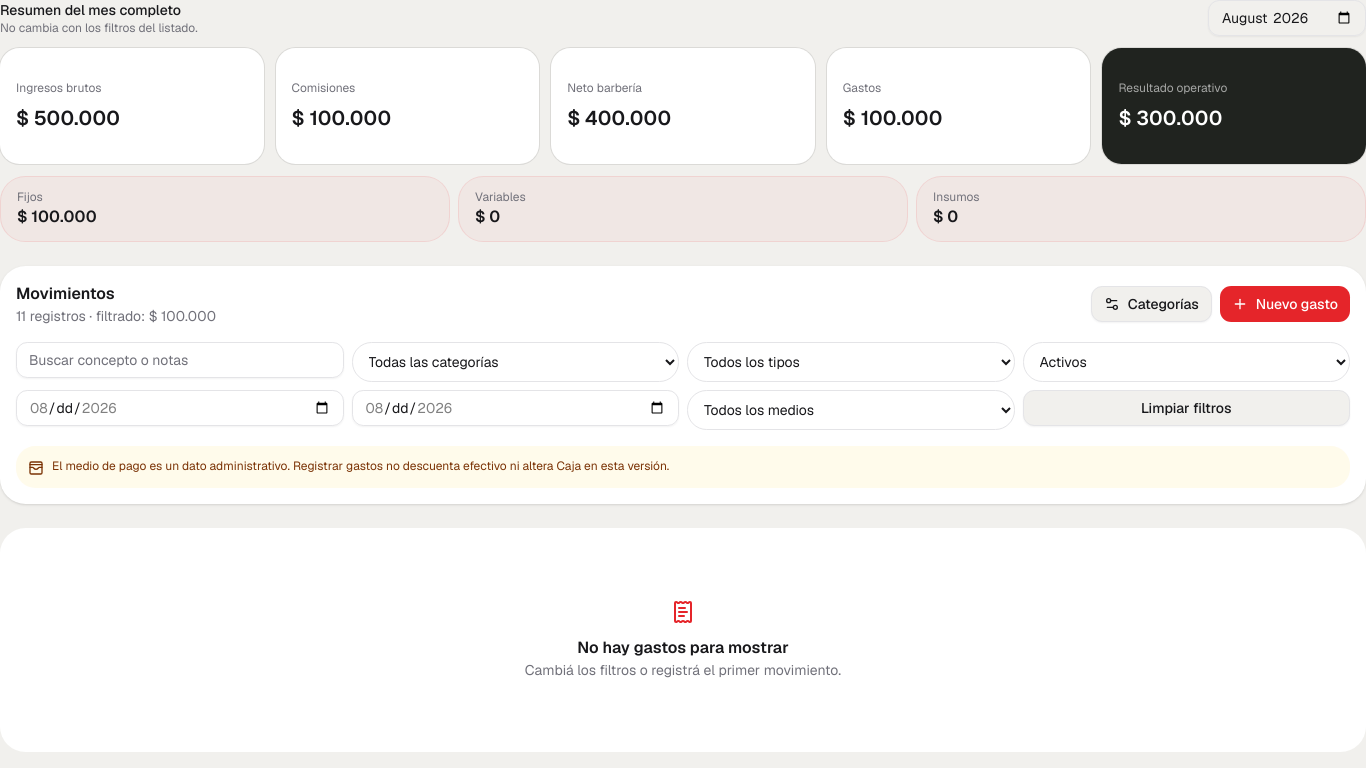
it: routes an empty catalog to category administration and uses a newly created category
The width and height of the screenshot is (1366, 768).
Click the button "Nuevo gasto".
click(1285, 304)  # box x1=1220 y1=286 x2=1350 y2=322
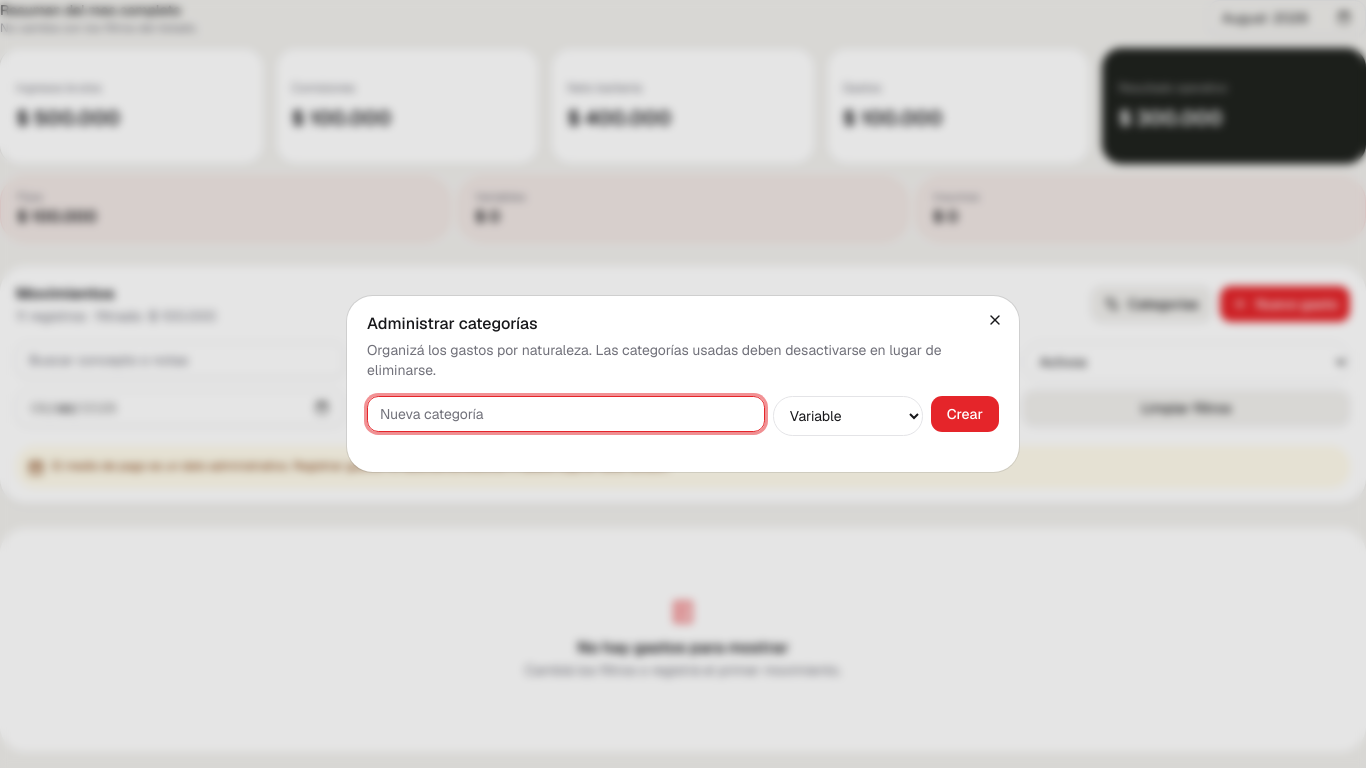
Result: the heading "Administrar categorías" is shown at x1=367 y1=313 x2=538 y2=334
Type "Servicios" into the field named "Nombre de categoría".
click(566, 414); type("Servicios")  # box x1=367 y1=396 x2=765 y2=432
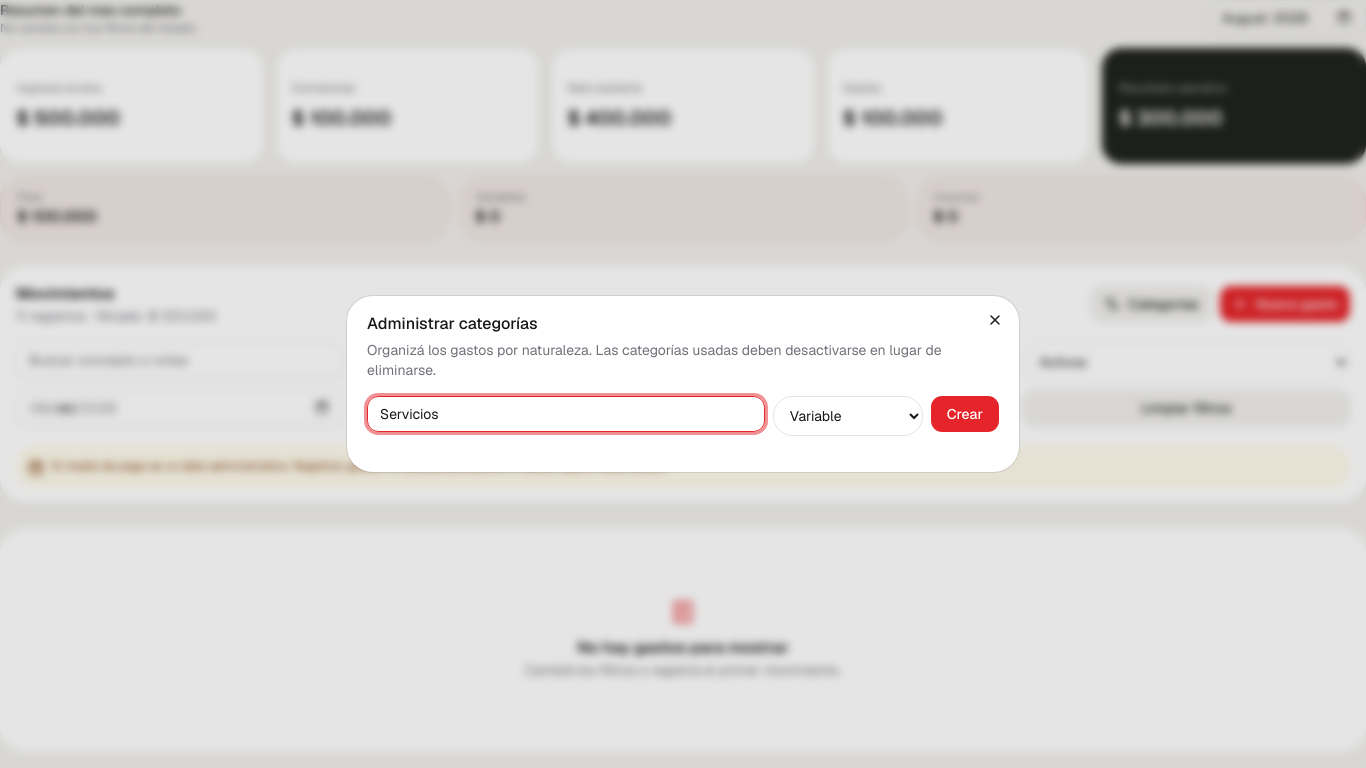
Click the button "Crear".
click(965, 414)  # box x1=931 y1=396 x2=999 y2=432
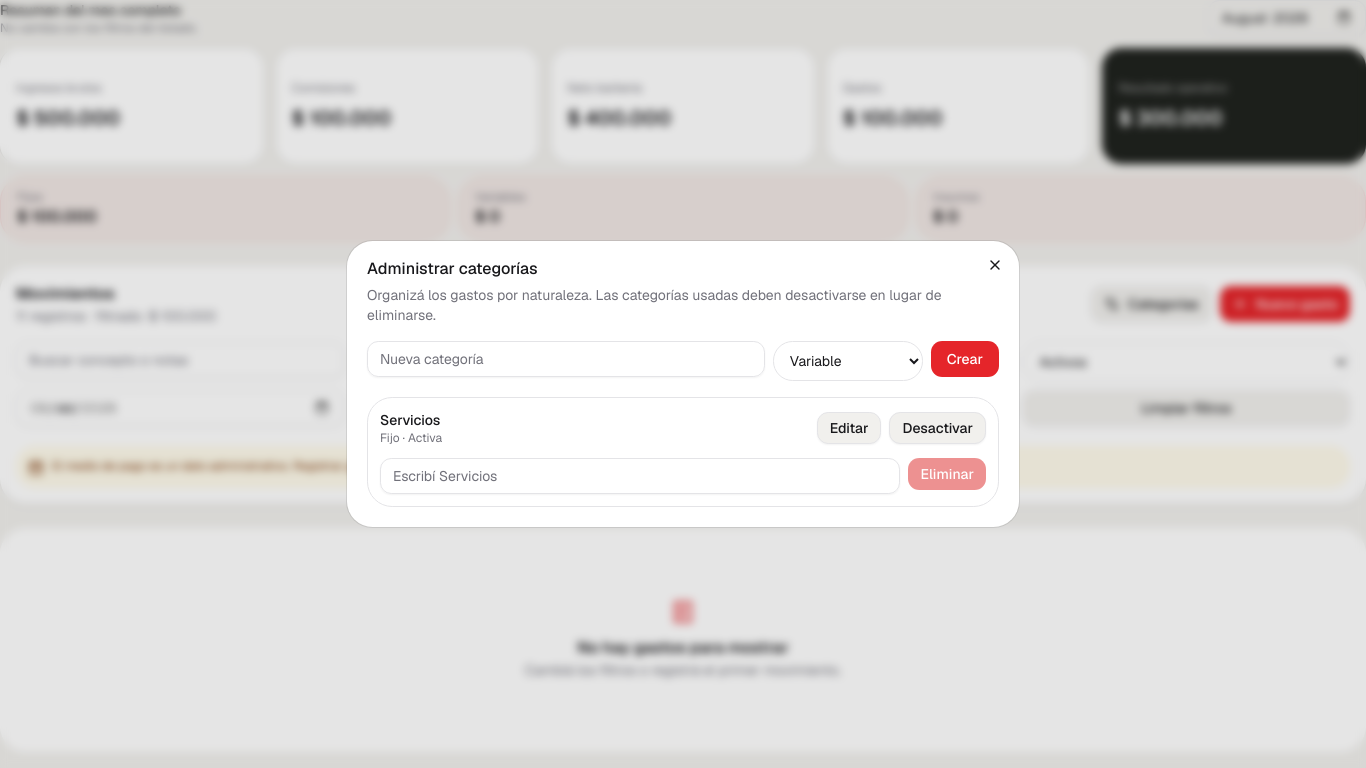
Click the button named "Close".
click(995, 265)  # box x1=979 y1=249 x2=1011 y2=281
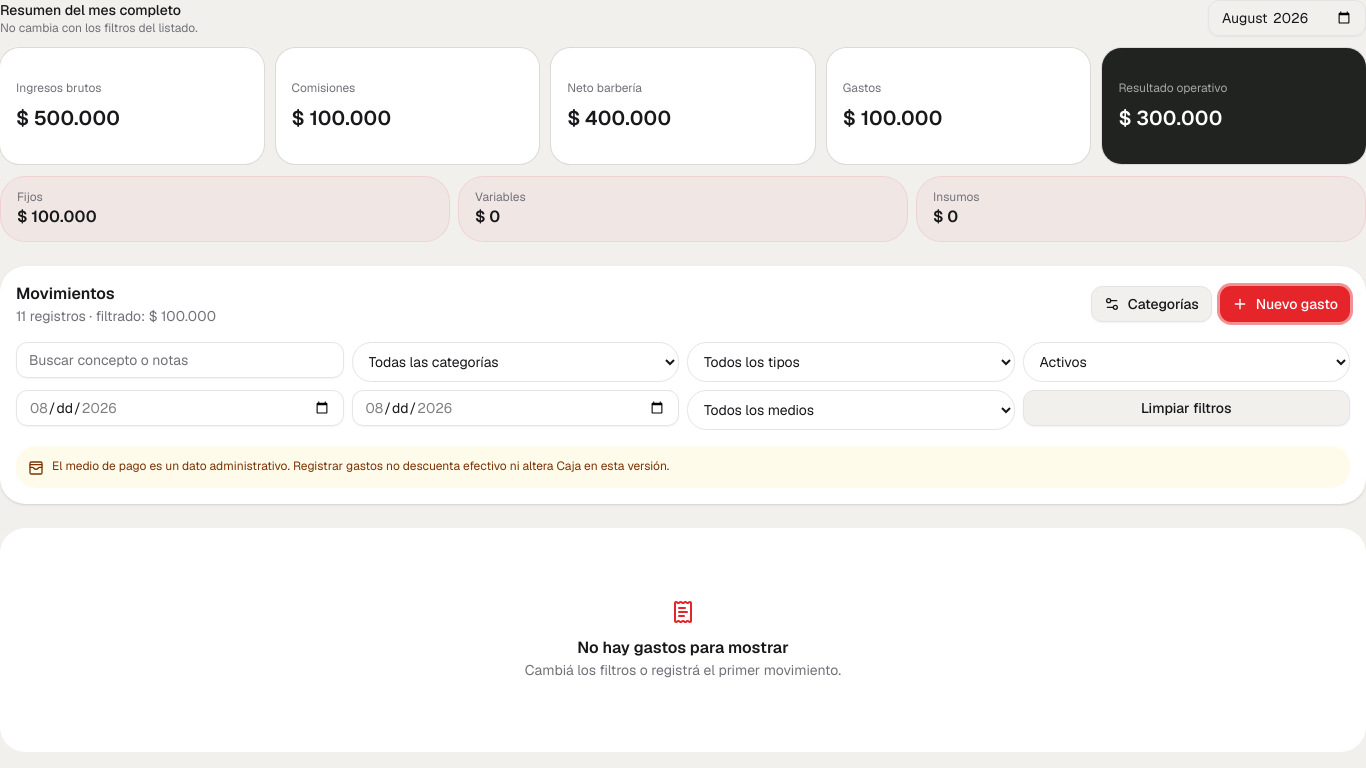
Click the button "Nuevo gasto".
click(1285, 304)  # box x1=1220 y1=286 x2=1350 y2=322
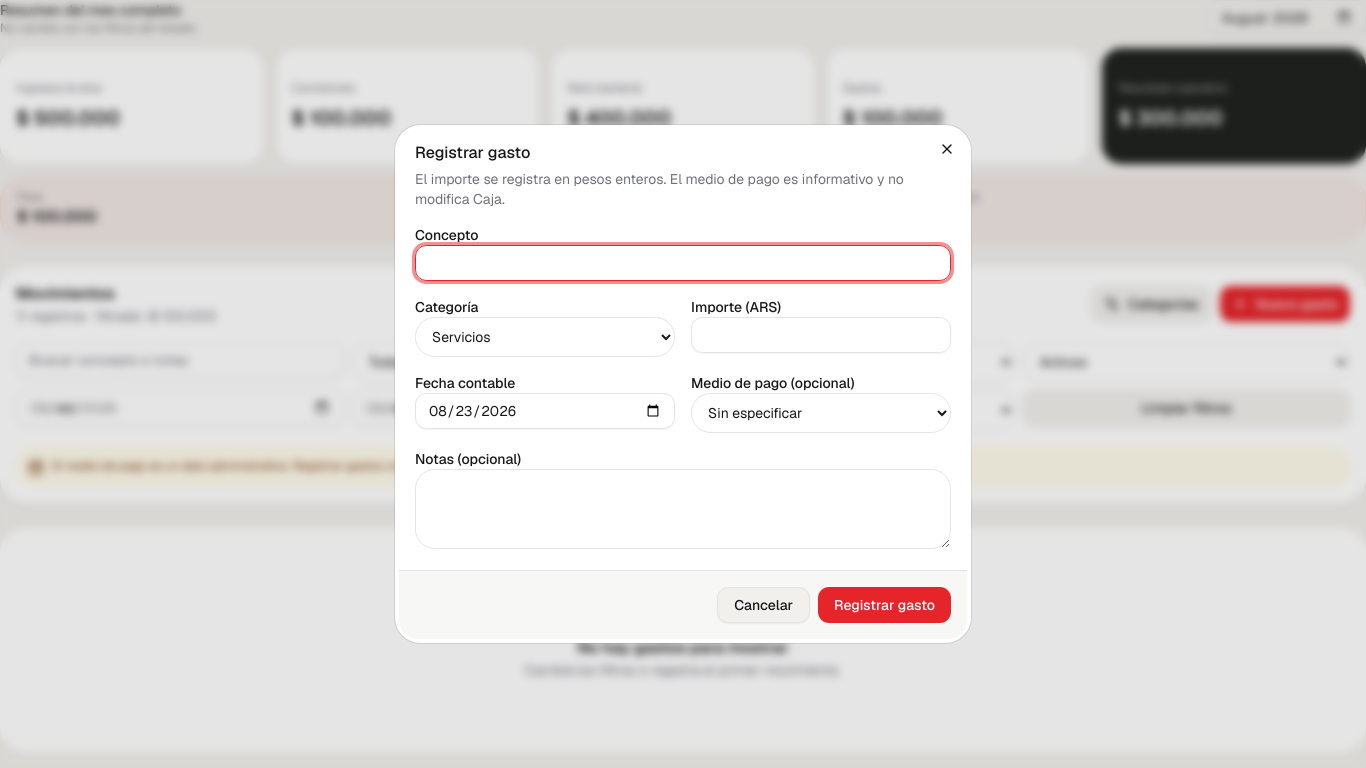
Result: the dropdown labelled "Categoría" shows "Servicios" at x1=415 y1=317 x2=675 y2=357
